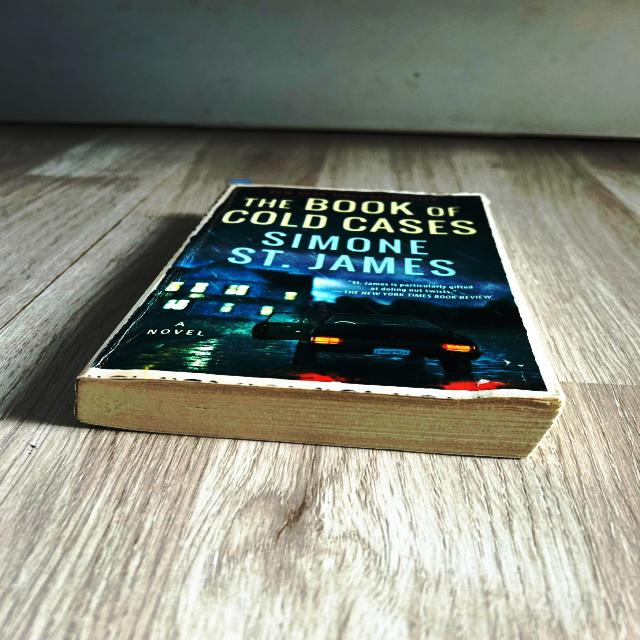Book: (77, 184, 571, 459)
